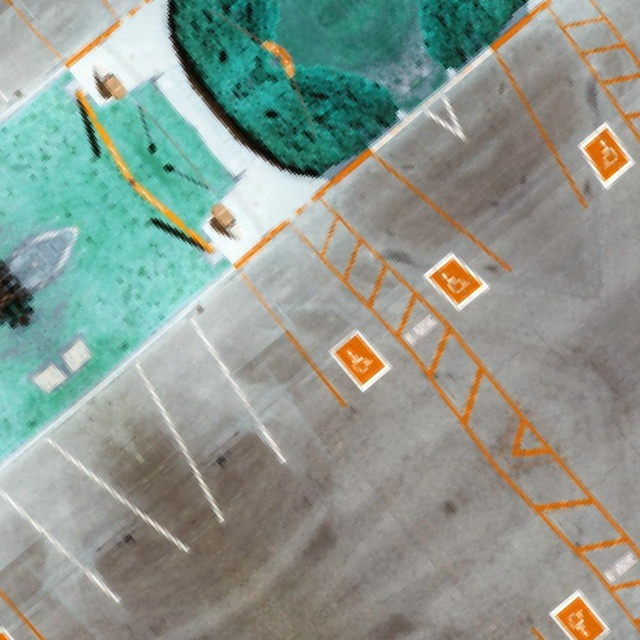ISA: (576, 125, 637, 187), (427, 251, 488, 312), (330, 330, 388, 390), (551, 592, 609, 640), (0, 628, 34, 640), (269, 42, 286, 59), (277, 52, 294, 69)
